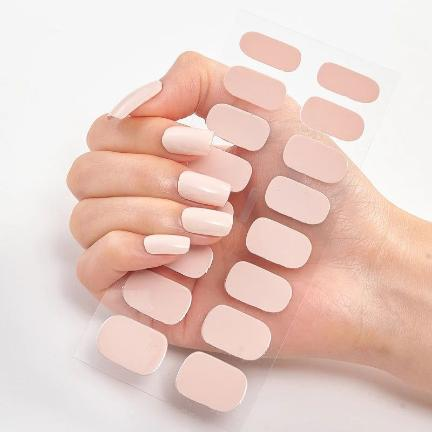Nail: (107, 80, 162, 119), (177, 171, 231, 207), (181, 207, 233, 237), (162, 126, 214, 156), (144, 234, 190, 255)
